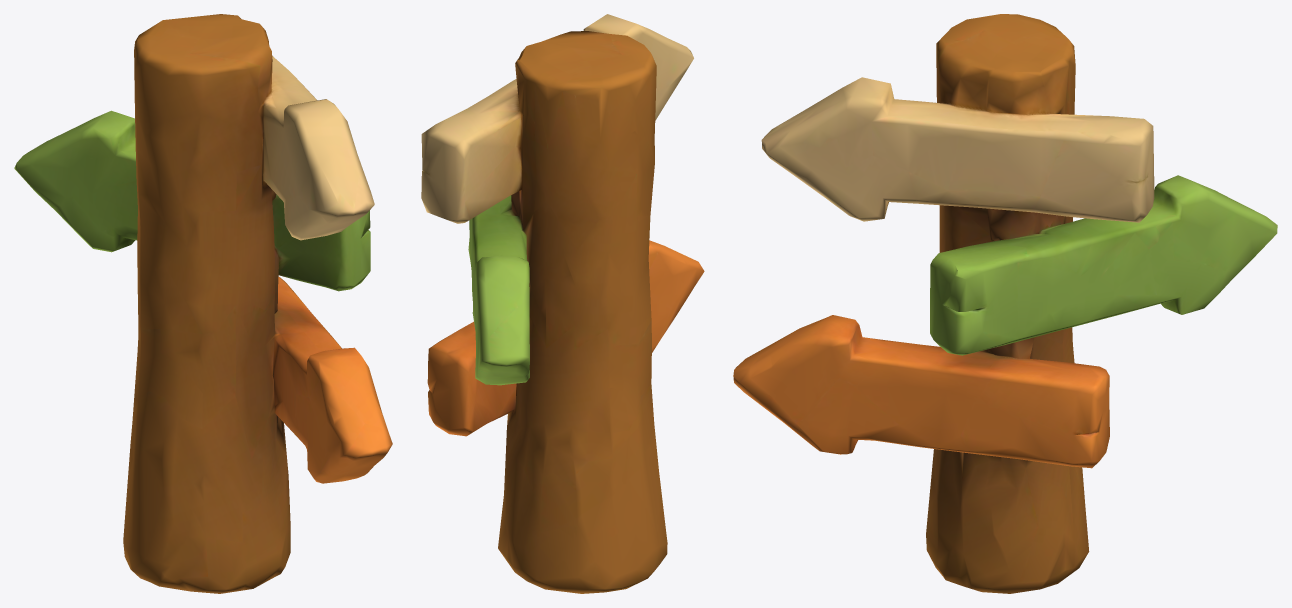
The model's file is signpost.glb.
3 views of the same model, side by side, from view 1: azimuth 30°, elevation 25°; view 2: azimuth 150°, elevation 25°; view 3: azimuth 270°, elevation 25° (orthographic). The views are drawn at different scales.
Visible parts, largest first — view 1: tripo_node_4f1cdfb1-3a70-4e18-90ea-c3ff97644e94; view 2: tripo_node_4f1cdfb1-3a70-4e18-90ea-c3ff97644e94; view 3: tripo_node_4f1cdfb1-3a70-4e18-90ea-c3ff97644e94.
Part boxes in pixels (bbox=[...]): tripo_node_4f1cdfb1-3a70-4e18-90ea-c3ff97644e94: bbox=[14, 14, 392, 593]; tripo_node_4f1cdfb1-3a70-4e18-90ea-c3ff97644e94: bbox=[421, 14, 704, 593]; tripo_node_4f1cdfb1-3a70-4e18-90ea-c3ff97644e94: bbox=[733, 14, 1277, 593].
Bounding box in the file's own units: 0.4218 × 1 × 0.9475.
1 material, 1 textured.
